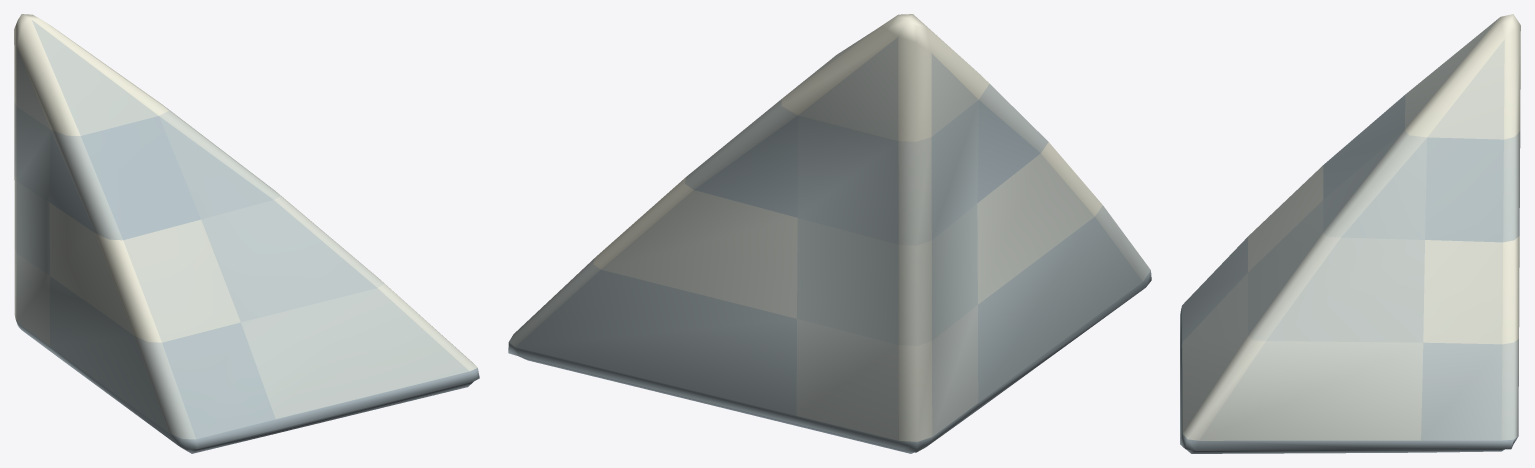
File: Quartz_4x4_Slope_Outer.fbx
3 views of the same model, side by side, from view 1: azimuth 30°, elevation 25°; view 2: azimuth 150°, elevation 25°; view 3: azimuth 270°, elevation 25° (orthographic). The views are drawn at different scales.
Parts seen in each view (by area): view 1: Quartz_4x4_Slope_Outer_LOD0; view 2: Quartz_4x4_Slope_Outer_LOD0; view 3: Quartz_4x4_Slope_Outer_LOD0.
Boxes of the visible parts, left/top/right/bottom form: Quartz_4x4_Slope_Outer_LOD0: left=14, top=14, right=479, bottom=453; Quartz_4x4_Slope_Outer_LOD0: left=508, top=14, right=1151, bottom=453; Quartz_4x4_Slope_Outer_LOD0: left=1180, top=14, right=1520, bottom=453.
Size of what is drawn, in the model's own units: 1.03 by 1.04 by 1.04.
